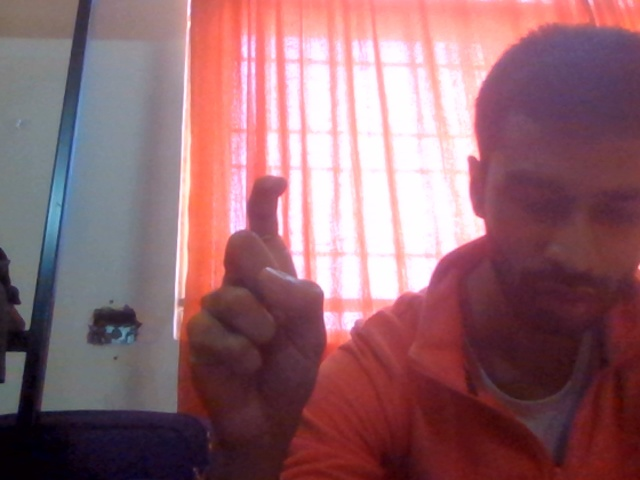X: (168, 149, 352, 480)
